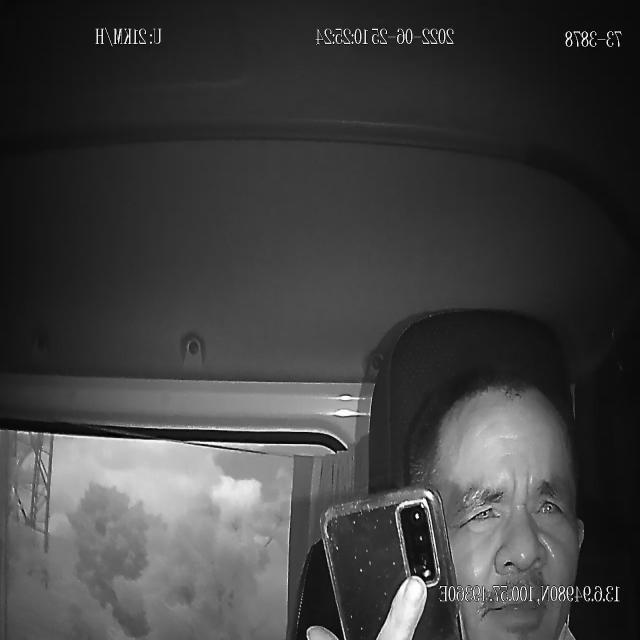phone: (320, 484, 466, 640)
